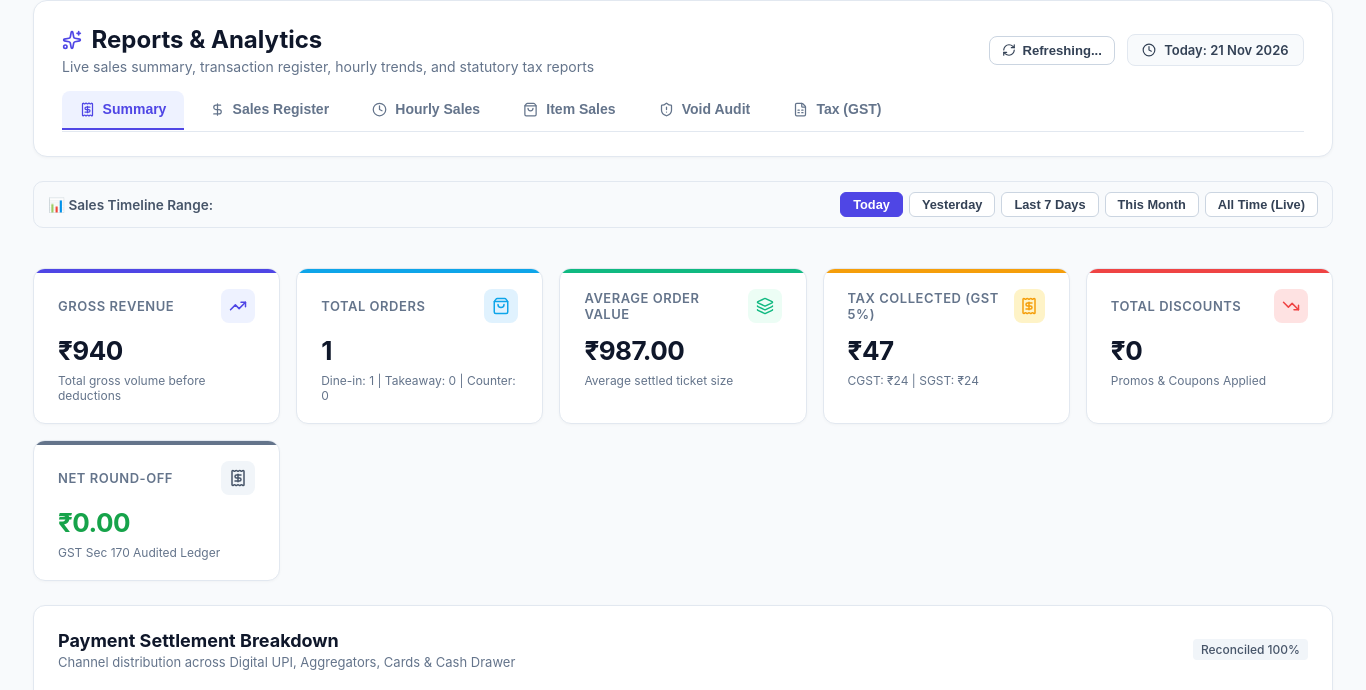
Test: ReportsDashboard Component › navigates to View B: Hourly Sales & Rush Heatmap and displays dynamic hour callouts
// Click Hourly tab
Click the button "Hourly Sales" at coordinates (426, 110), box [355,91,498,130]
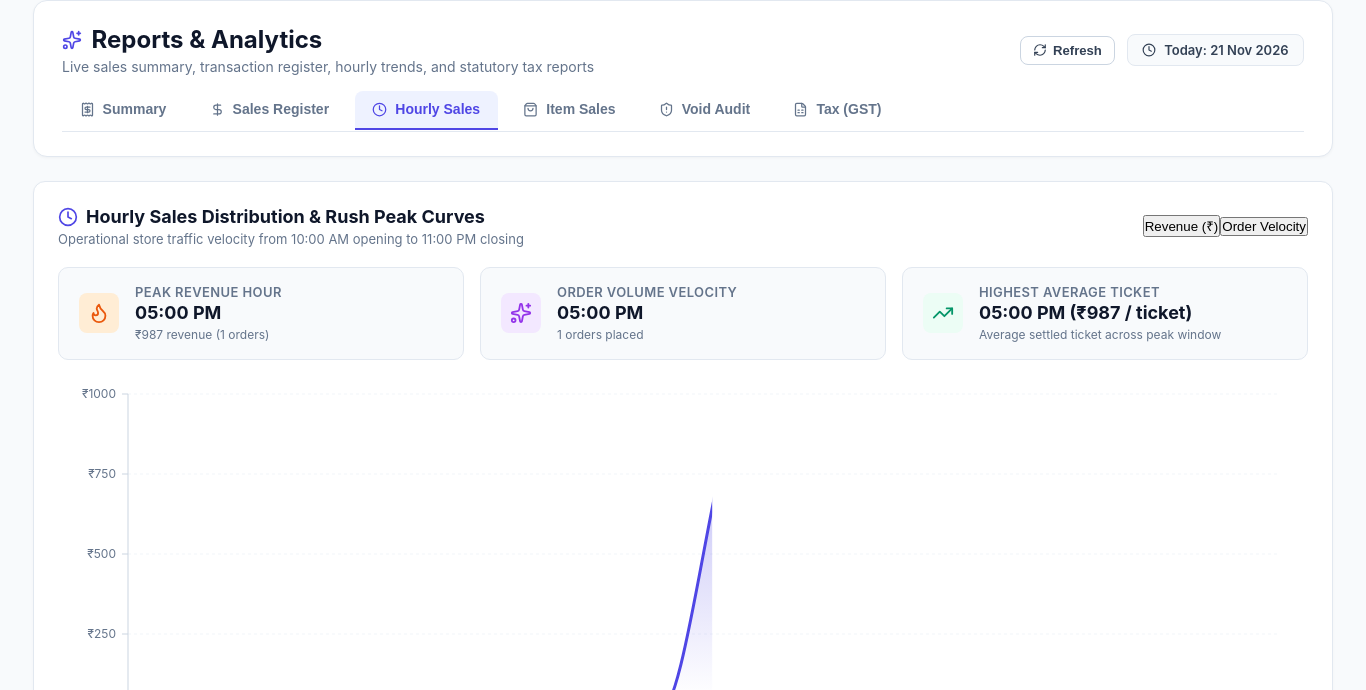
Now the heading "Peak Revenue Hour" is shown, box [135,284,282,300]
Now the heading "Order Volume Velocity" is shown, box [557,284,737,300]
Now the heading "Highest Average Ticket" is shown, box [979,284,1160,300]
